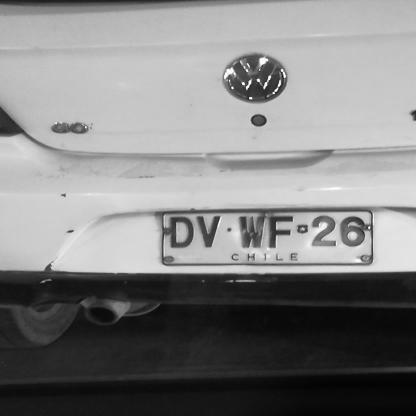Patente: (160, 211, 373, 266)
